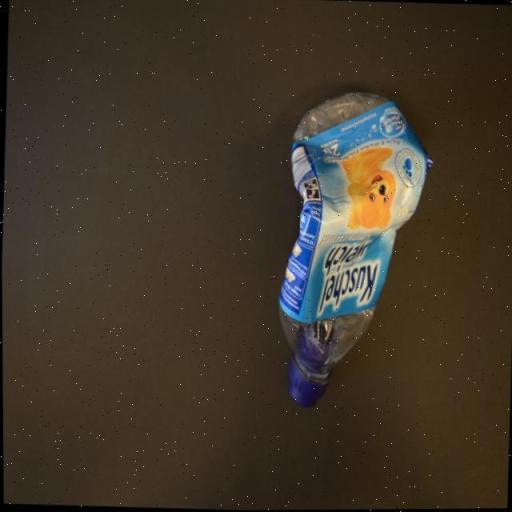plastic: (272, 86, 438, 412)
